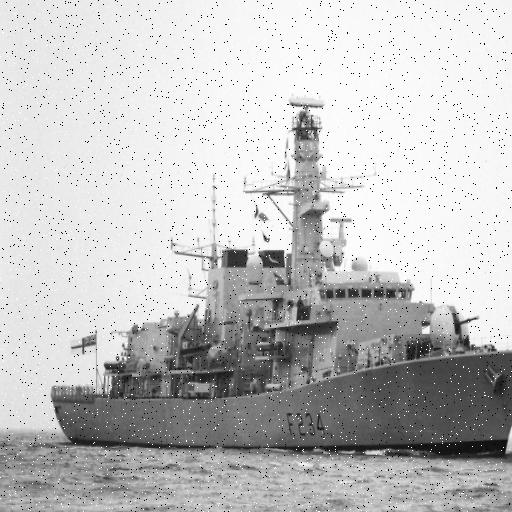Fragata: (43, 92, 512, 469)
